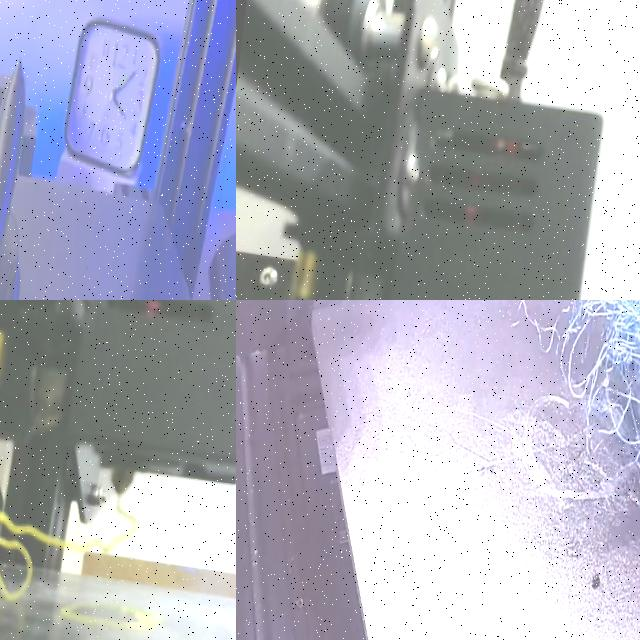spaghetti: (518, 300, 640, 513), (0, 493, 138, 601)
